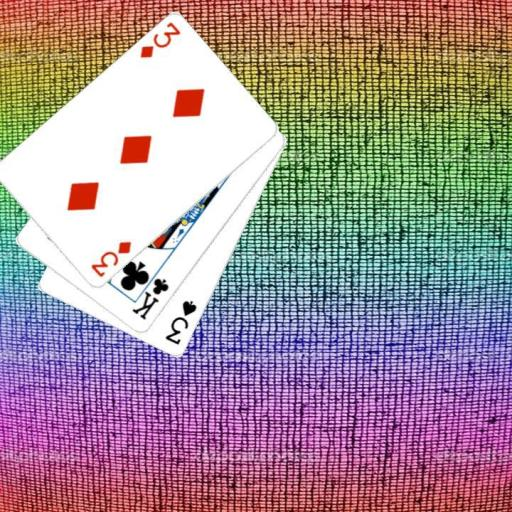3D: (87, 239, 133, 280), (137, 20, 182, 61)
3S: (162, 297, 199, 347)
KC: (129, 266, 171, 322)
